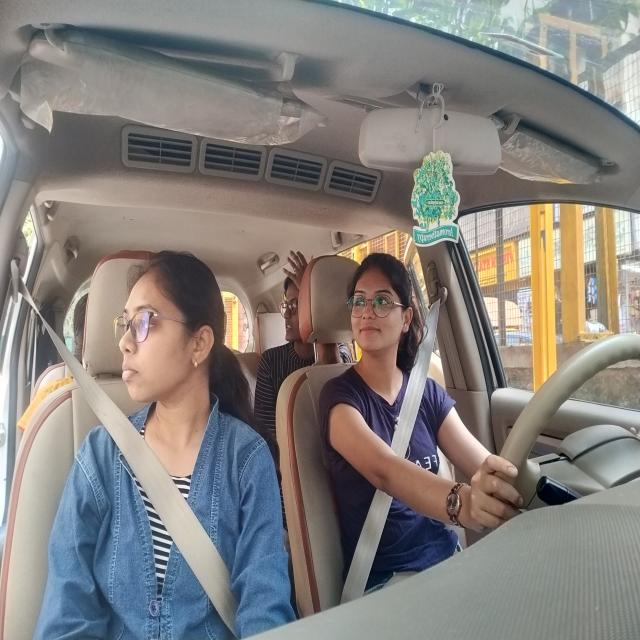LeftRight: (350, 255, 412, 358)
person: (113, 268, 215, 405), (277, 270, 302, 352)
